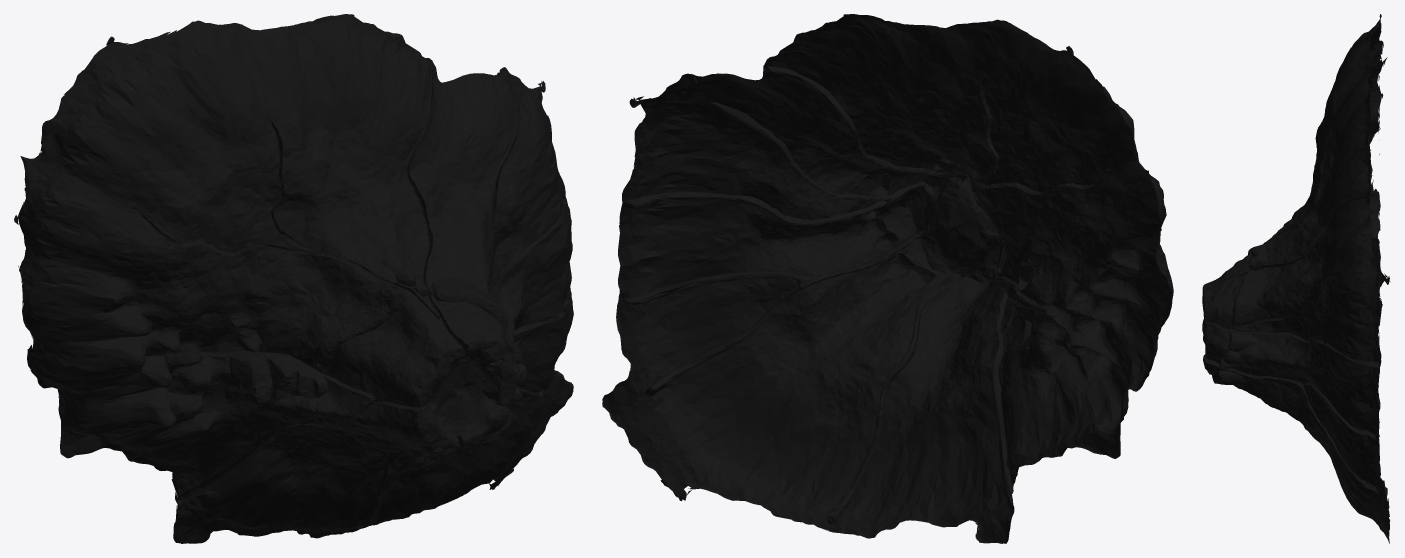
The model's file is Island5.glb.
3 renders of one model, left to right at view 1: azimuth 30°, elevation 25°; view 2: azimuth 150°, elevation 25°; view 3: azimuth 270°, elevation 25°, orthographic. The views are drawn at different scales.
Parts seen in each view (by area): view 1: Island5; view 2: Island5; view 3: Island5.
Part boxes in pixels (left/top/right/bottom): Island5: left=14, top=14, right=573, bottom=543; Island5: left=602, top=14, right=1173, bottom=543; Island5: left=1202, top=14, right=1390, bottom=543.
Size of the model in its own units: 157 by 148 by 63.54.
Materials: 1 (1 with a texture image).
